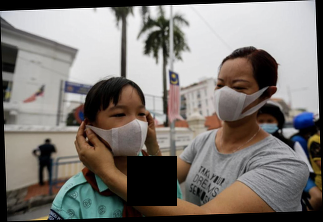with_mask: (98, 102, 150, 159), (212, 73, 259, 124)
